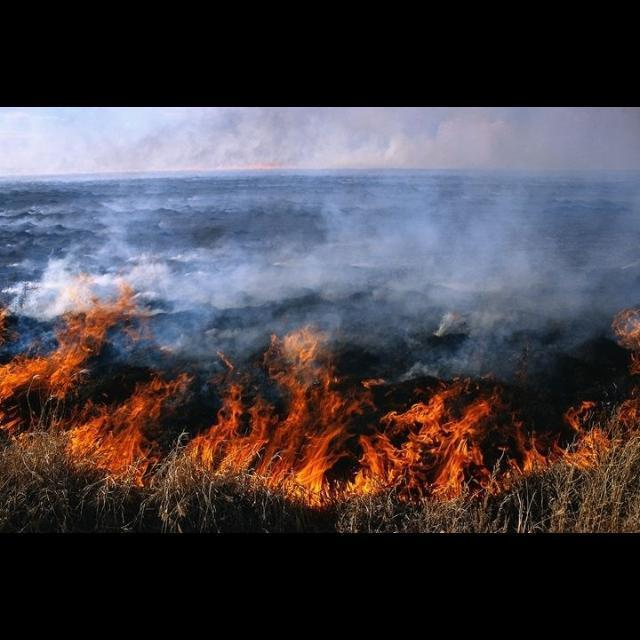Fire: (1, 271, 640, 511)
Smoke: (1, 108, 640, 285)
